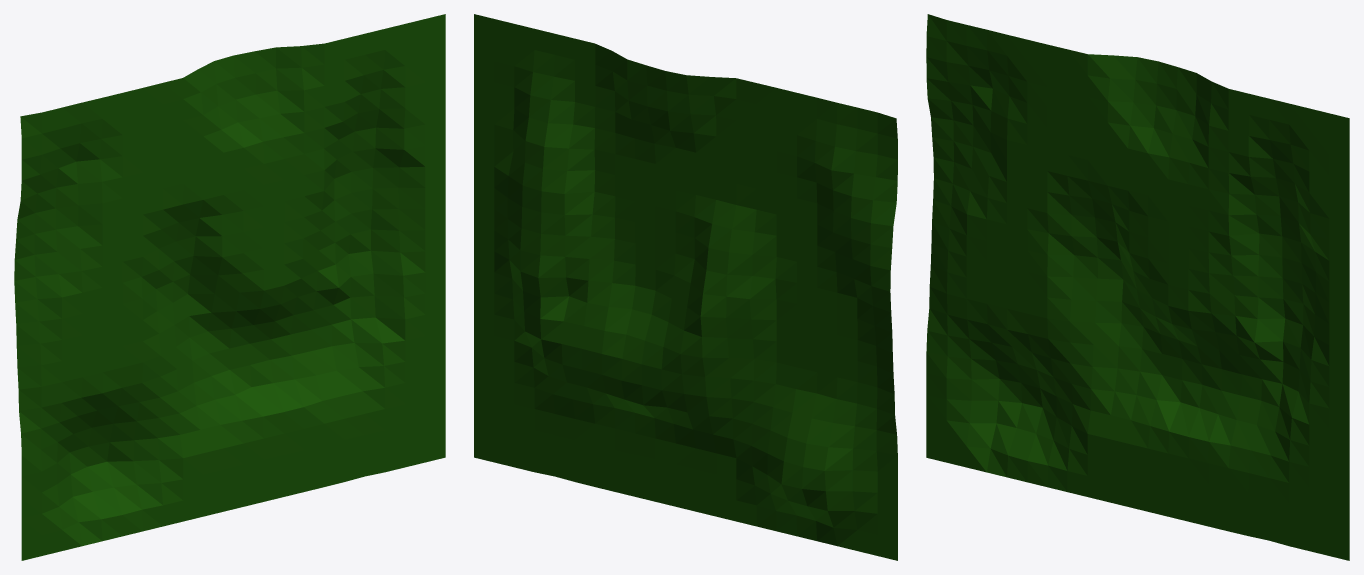
3 views of the same model, side by side, from view 1: azimuth 30°, elevation 25°; view 2: azimuth 150°, elevation 25°; view 3: azimuth 330°, elevation 25° (orthographic).
Visible parts, largest first — view 1: Plane003; view 2: Plane003; view 3: Plane003.
Boxes of the visible parts, x1,y1,x2,y2 form: Plane003: [14, 14, 445, 560]; Plane003: [474, 14, 897, 560]; Plane003: [926, 14, 1349, 560].
Bounding box in the file's own units: 2800 × 187 × 2800.
